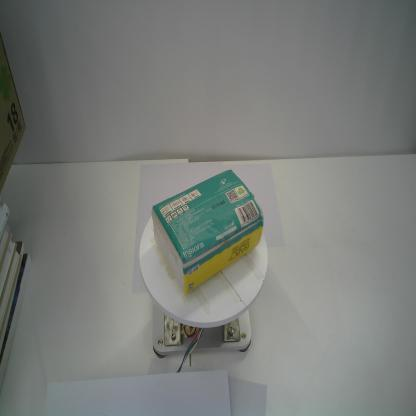Tissue: (150, 167, 265, 296)
